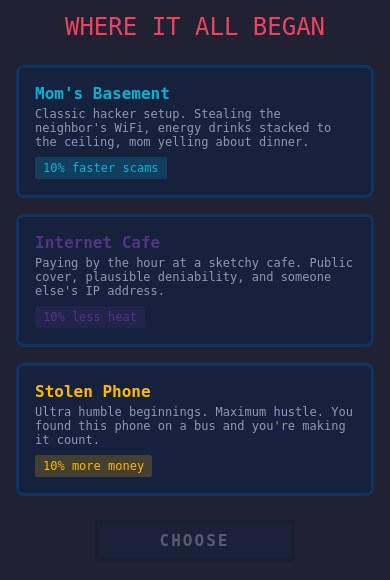
Test: OriginSelectModal › enables CHOOSE button after selecting a card
Click the element with test id "origin-card-stolen-phone".
click(195, 429)  # box [16,362,374,496]
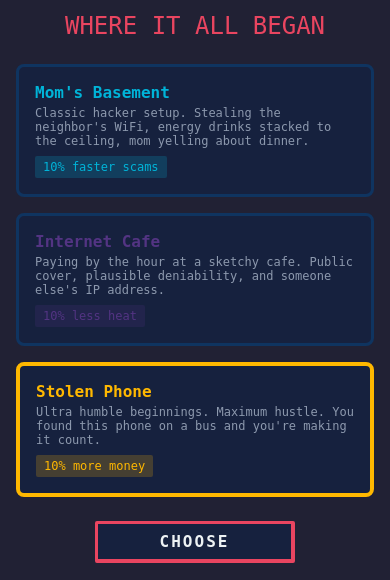
Result: the button with test id "origin-choose-btn" is enabled at [95,520,295,562]
